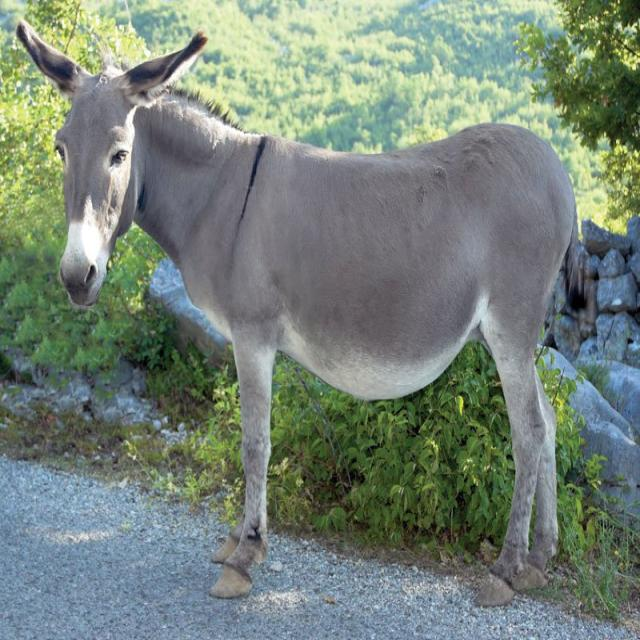Donkey: (9, 11, 598, 596)
